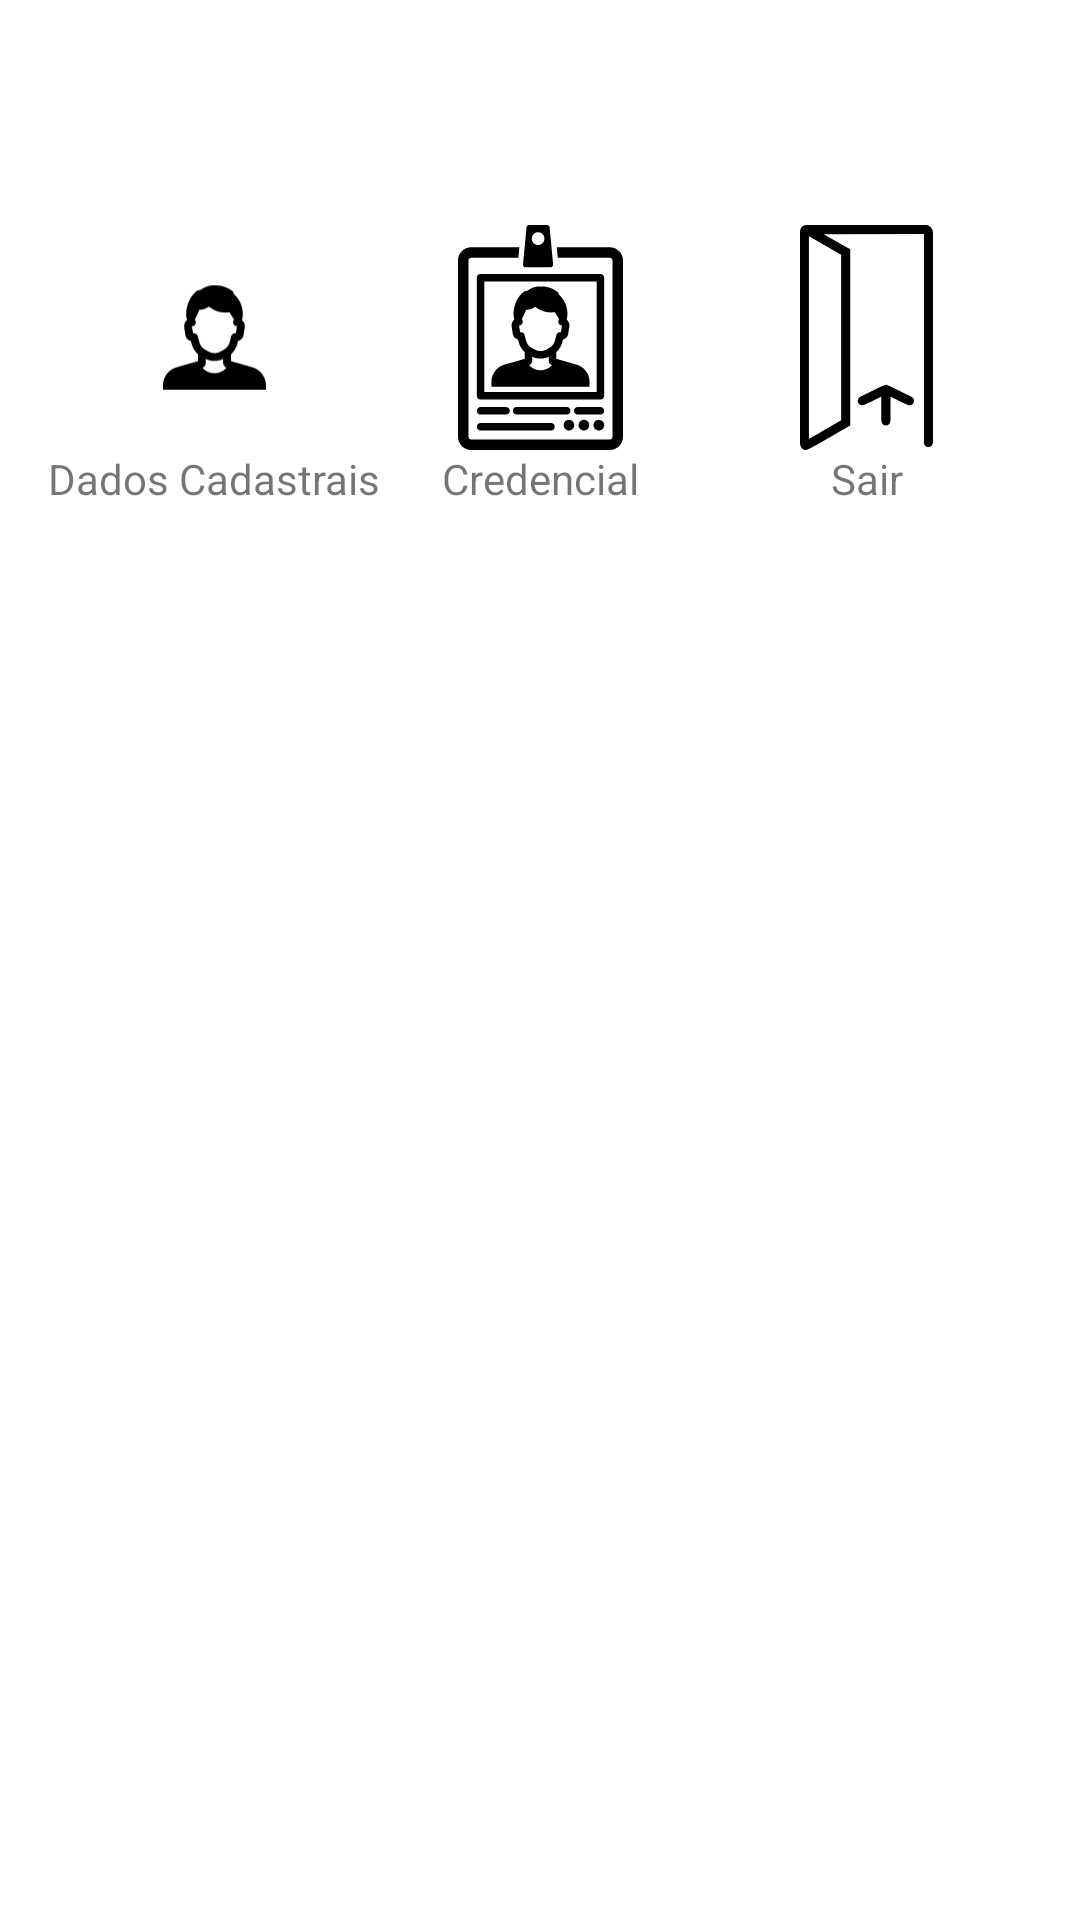

Where to tap for icons on this 1080px×1920px app screen, as (x=x, y=y):
user: (x=214, y=337)
